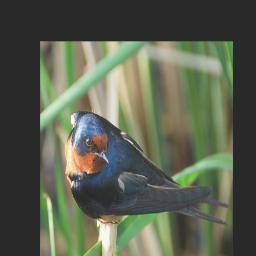Swallow: (63, 108, 230, 228)
